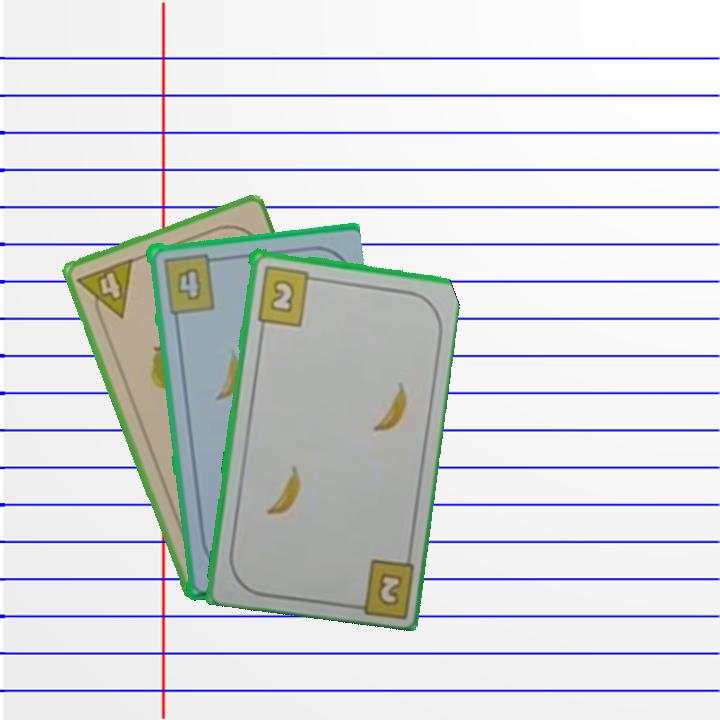2b: (253, 262, 321, 328), (373, 569, 405, 609)
4b: (158, 249, 221, 315)
4p: (74, 254, 136, 328)
